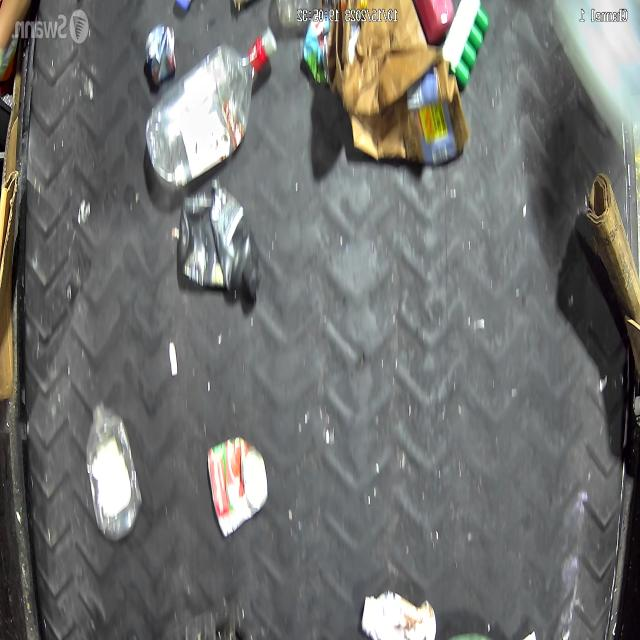can: (205, 435, 269, 539), (144, 22, 176, 85)
non_white_jug: (176, 183, 262, 305)
plastic_bottle: (144, 23, 278, 189), (84, 400, 144, 542)
